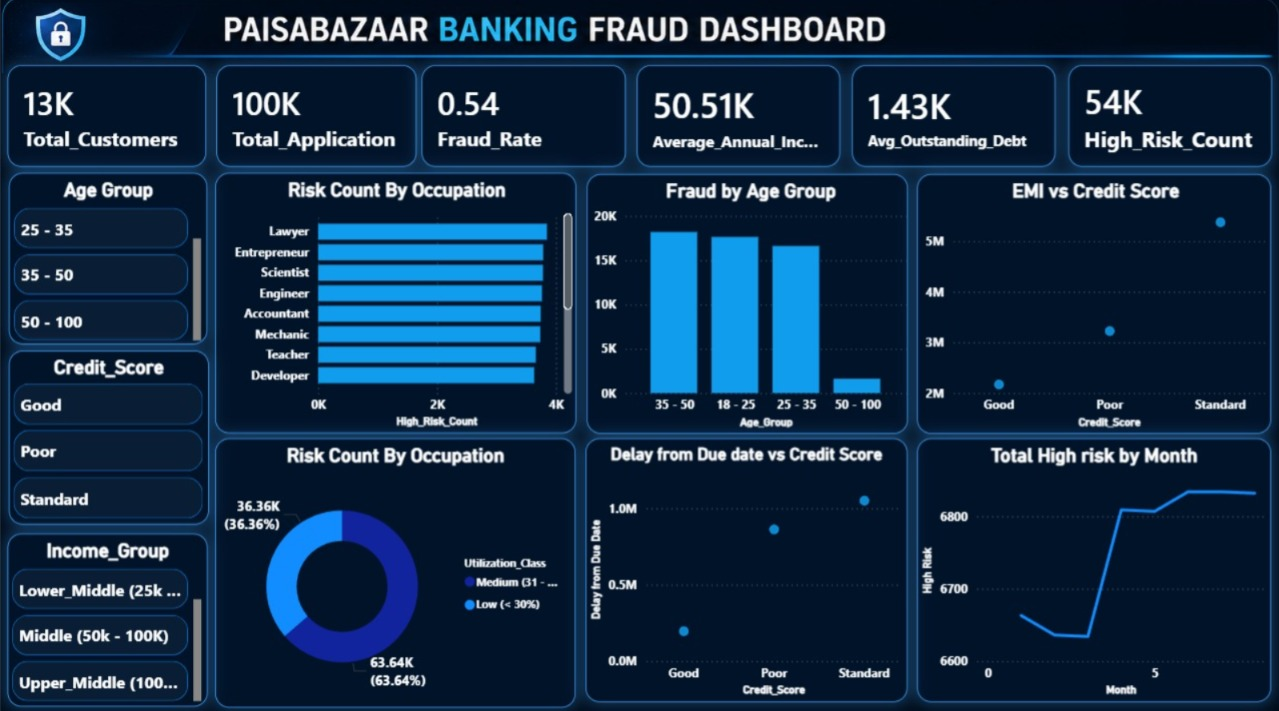

The dashboard page shown, as its layout file describes it:
{"tool":"powerbi","page":{"name":"Page 1","canvas":[1280,720],"ordinal":0},"visuals":[{"type":"cardVisual","fields":{"Data":["dataset.Total_Customers"]},"box":[7.5,69.4,198.8,101.2],"z":0},{"type":"cardVisual","fields":{"Data":["dataset.Total_Application"]},"box":[215.6,69.4,200,101.2],"z":1000},{"type":"cardVisual","fields":{"Data":["dataset.Fraud_Rate"]},"box":[421.2,69.4,203.8,101.2],"z":2000},{"type":"cardVisual","fields":{"Data":["dataset.Average_Annual_Income"]},"box":[635.6,69.4,203.1,101.2],"z":3000},{"type":"cardVisual","fields":{"Data":["dataset.Avg_Outstanding_Debt"]},"box":[850.6,69.4,203.1,101.2],"z":4000},{"type":"cardVisual","fields":{"Data":["dataset.High_Risk_Count"]},"box":[1066.9,69.4,203.1,101.2],"z":5000},{"type":"barChart","title":"Risk Count By Occupation","fields":{"Y":["dataset.High_Risk_Count"],"Category":["dataset.Occupation"]},"box":[215.3,177.3,360.7,260],"z":6000},{"type":"columnChart","title":"Fraud by Age Group","fields":{"Category":["dataset.Age_Group"],"Y":["dataset.High_Risk_Count"]},"box":[585.7,178.3,320.4,259.1],"z":7000},{"type":"scatterChart","title":"EMI vs Credit Score","fields":{"Y":["Sum(dataset.Total_EMI_per_month)"],"X":["dataset.Credit_Score"]},"box":[916.1,178.3,353.9,259.1],"z":8000},{"type":"donutChart","title":"Risk Count By Occupation","fields":{"Series":["dataset.Utilization_Class"],"Category":["dataset.Utilization_Class"],"Y":["CountNonNull(dataset.Customer_ID)"]},"box":[215,442.1,360,268.6],"z":9000},{"type":"lineChart","title":"Total High risk by Month","fields":{"Category":["dataset.Month"],"Y":["dataset.Total_HighRisk"]},"box":[916.4,442.1,353.6,262.9],"z":10000},{"type":"scatterChart","title":"Delay from Due date vs Credit Score","fields":{"X":["dataset.Credit_Score"],"Y":["Sum(dataset.Delay_from_due_date)"]},"box":[585,442.1,321.4,262.9],"z":11000},{"type":"advancedSlicerVisual","title":"Age Group","fields":{"Values":["dataset.Age_Group"]},"box":[8.1,177.5,198.8,171.2],"z":12000},{"type":"advancedSlicerVisual","fields":{"Values":["dataset.Credit_Score"]},"box":[8.1,355,200,173.8],"z":12001},{"type":"advancedSlicerVisual","fields":{"Values":["dataset.Income_Group"]},"box":[8,538,200,173],"z":12002}]}

Visuals, with their boxes in screenshot pixels (x1, y1, x2, y2), scaled from the page's 1280x720 canvas onto the 1279x711 screenshot:
cardVisual - dataset.Total_Customers: bbox=[7, 69, 206, 168]
cardVisual - dataset.Total_Application: bbox=[215, 69, 415, 168]
cardVisual - dataset.Fraud_Rate: bbox=[421, 69, 625, 168]
cardVisual - dataset.Average_Annual_Income: bbox=[635, 69, 838, 168]
cardVisual - dataset.Avg_Outstanding_Debt: bbox=[850, 69, 1053, 168]
cardVisual - dataset.High_Risk_Count: bbox=[1066, 69, 1269, 168]
"Risk Count By Occupation" barChart: bbox=[215, 175, 576, 432]
"Fraud by Age Group" columnChart: bbox=[585, 176, 905, 432]
"EMI vs Credit Score" scatterChart: bbox=[915, 176, 1269, 432]
"Risk Count By Occupation" donutChart: bbox=[215, 437, 575, 702]
"Total High risk by Month" lineChart: bbox=[916, 437, 1269, 696]
"Delay from Due date vs Credit Score" scatterChart: bbox=[585, 437, 906, 696]
"Age Group" advancedSlicerVisual: bbox=[8, 175, 207, 344]
advancedSlicerVisual - dataset.Credit_Score: bbox=[8, 351, 208, 522]
advancedSlicerVisual - dataset.Income_Group: bbox=[8, 531, 208, 702]
